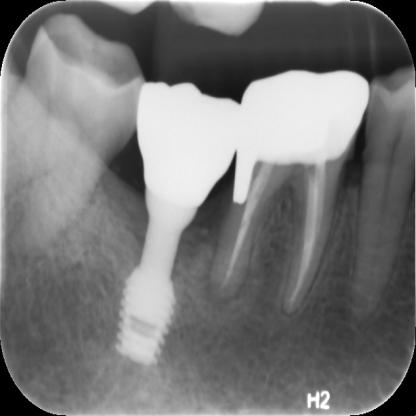Bicon: (110, 221, 193, 388)
